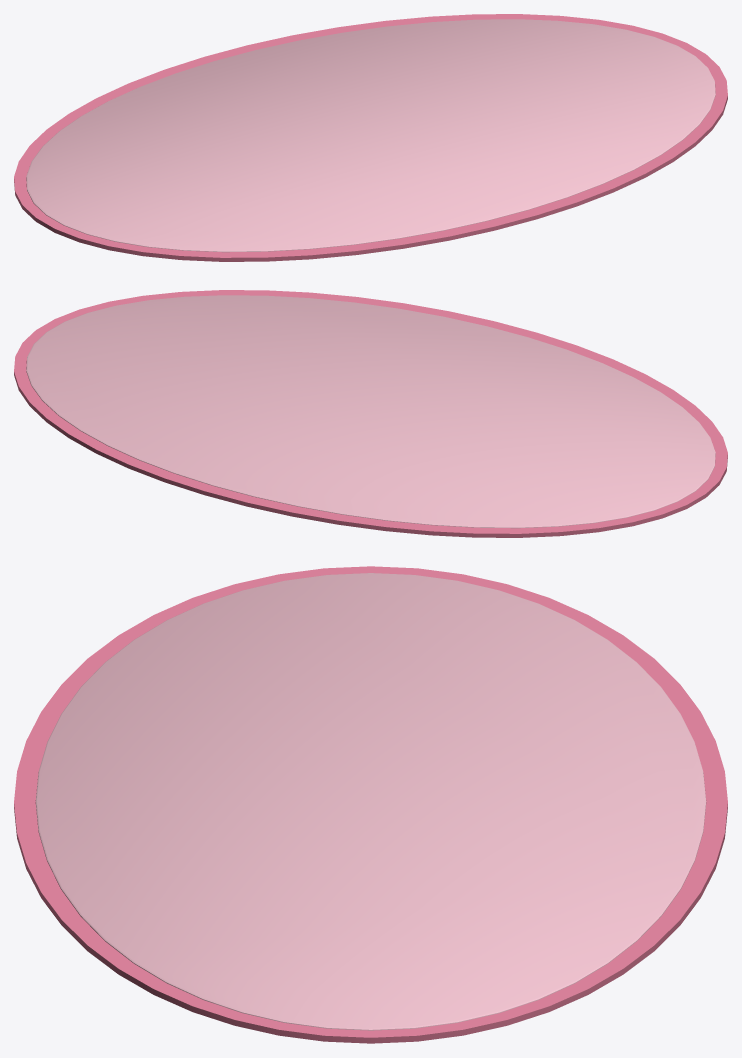
File: rug-oval.glb
3 renders of one model, top to bottom at view 1: azimuth 30°, elevation 25°; view 2: azimuth 150°, elevation 25°; view 3: azimuth 270°, elevation 25°, orthographic. The views are drawn at different scales.
Parts seen in each view (by area): view 1: rug-oval; view 2: rug-oval; view 3: rug-oval.
Boxes of the visible parts, left/top/right/bottom form: rug-oval: left=14, top=14, right=727, bottom=261; rug-oval: left=14, top=290, right=727, bottom=537; rug-oval: left=14, top=566, right=727, bottom=1043.
Bounding box in the file's own units: 2.06 × 0.015 × 1.32.
